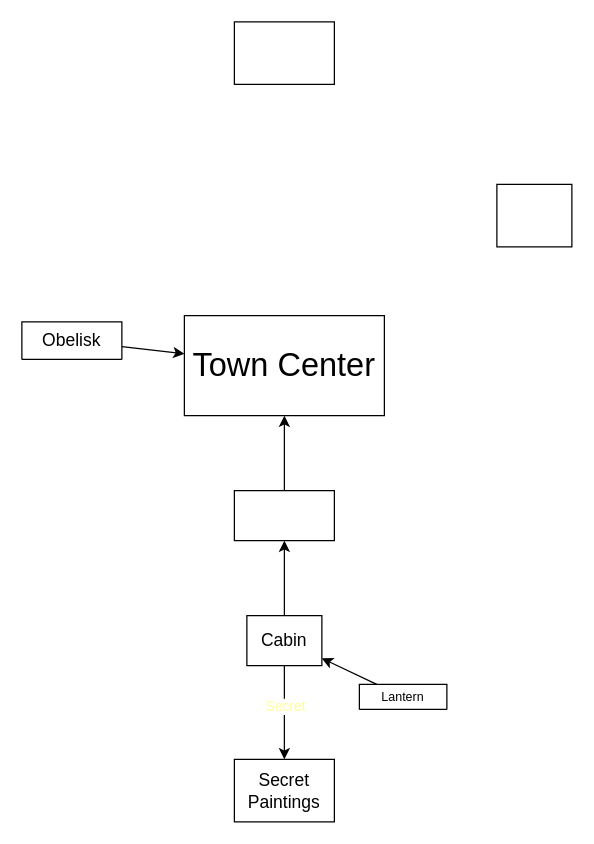
This 594x844 diagram has some shape labels left out. The centre of each missing label's shape, as x and y in pixels:
"Cabin Path" belongs at (283,515).
"Painter's House" belongs at (283,52).
"Witch's Abode" belongs at (534,215).
